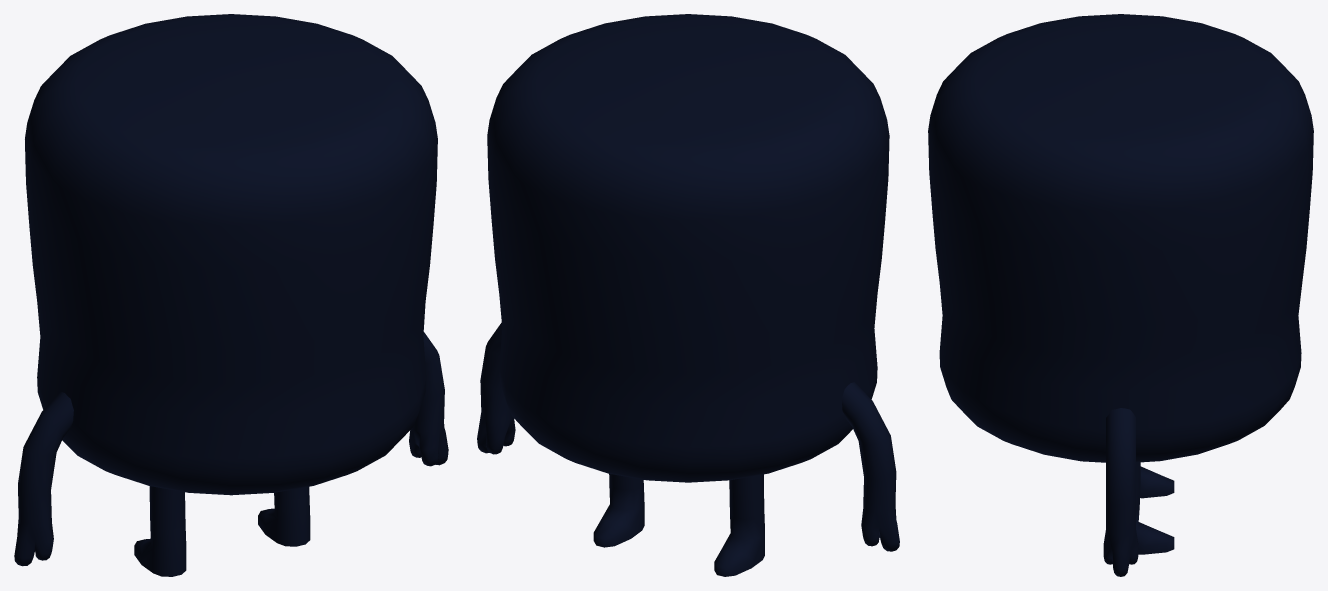
The model's file is MM01_Mother.fbx.
The picture shows the model from 3 angles, left to right: view 1: azimuth 30°, elevation 25°; view 2: azimuth 150°, elevation 25°; view 3: azimuth 270°, elevation 25°; orthographic projection. The views are drawn at different scales.
Parts seen in each view (by area): view 1: Connect_1; view 2: Connect_1; view 3: Connect_1.
Boxes of the visible parts, <box> form: Connect_1: <box>14,14,448,576</box>; Connect_1: <box>477,14,899,576</box>; Connect_1: <box>928,14,1313,576</box>.
Bounding box in the file's own units: 24.88 × 26.36 × 20.5.
